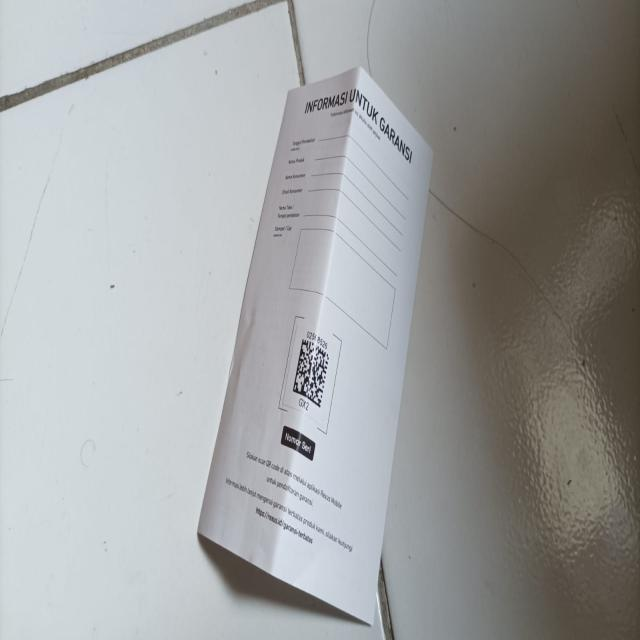Organik: (200, 69, 434, 626)
